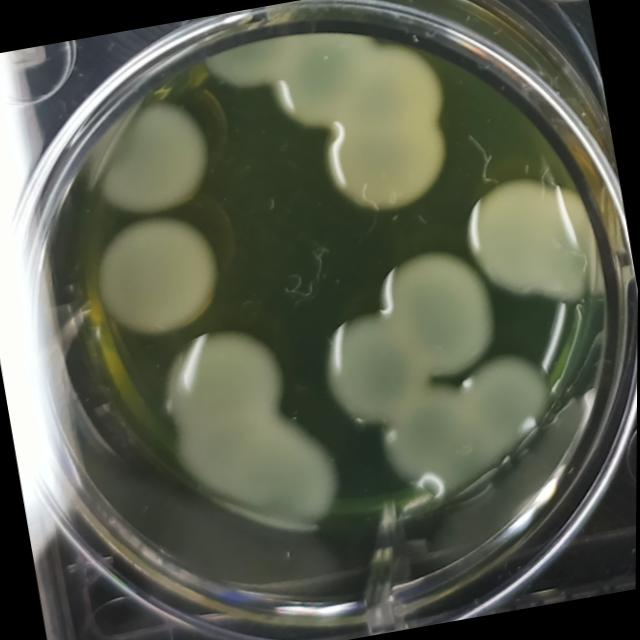vibrio: (196, 0, 463, 241), (149, 308, 354, 550), (305, 239, 516, 432), (362, 335, 577, 510), (460, 164, 611, 326), (84, 204, 237, 356), (87, 90, 222, 228)
